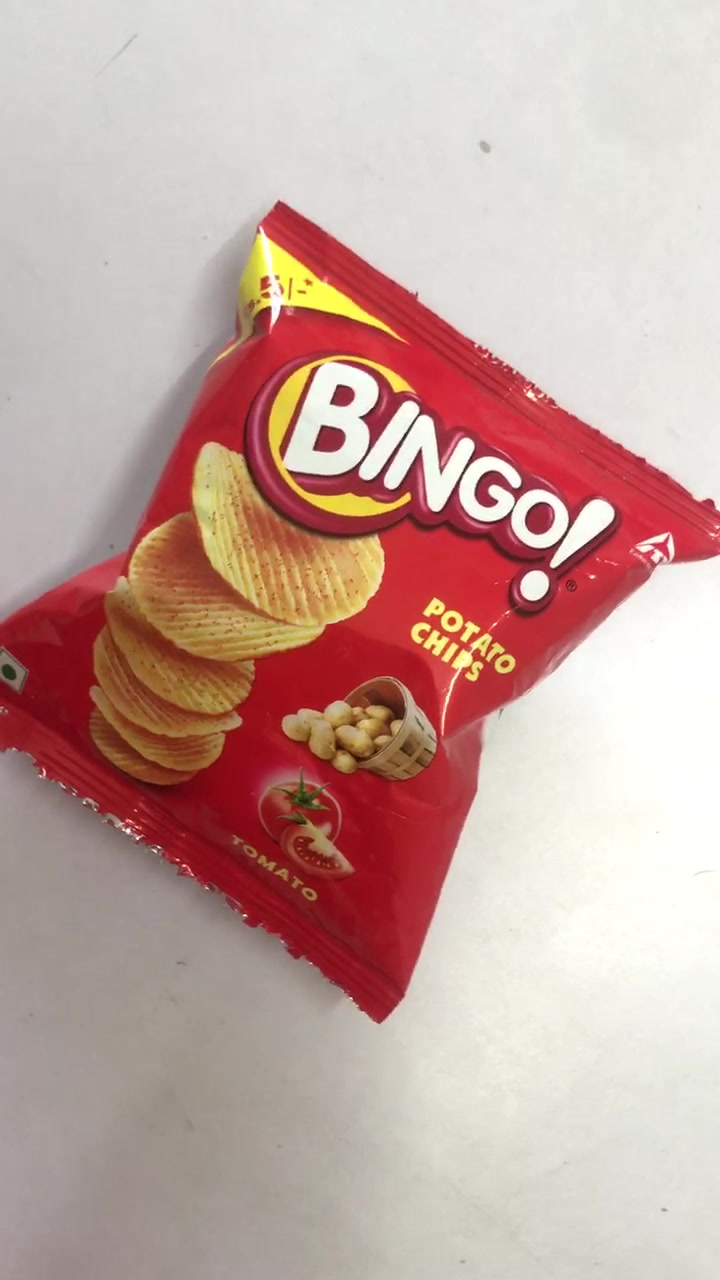Bingo: (8, 200, 720, 1021)
